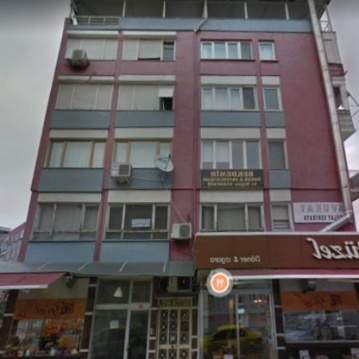door: (156, 298, 192, 359), (123, 307, 150, 359)
